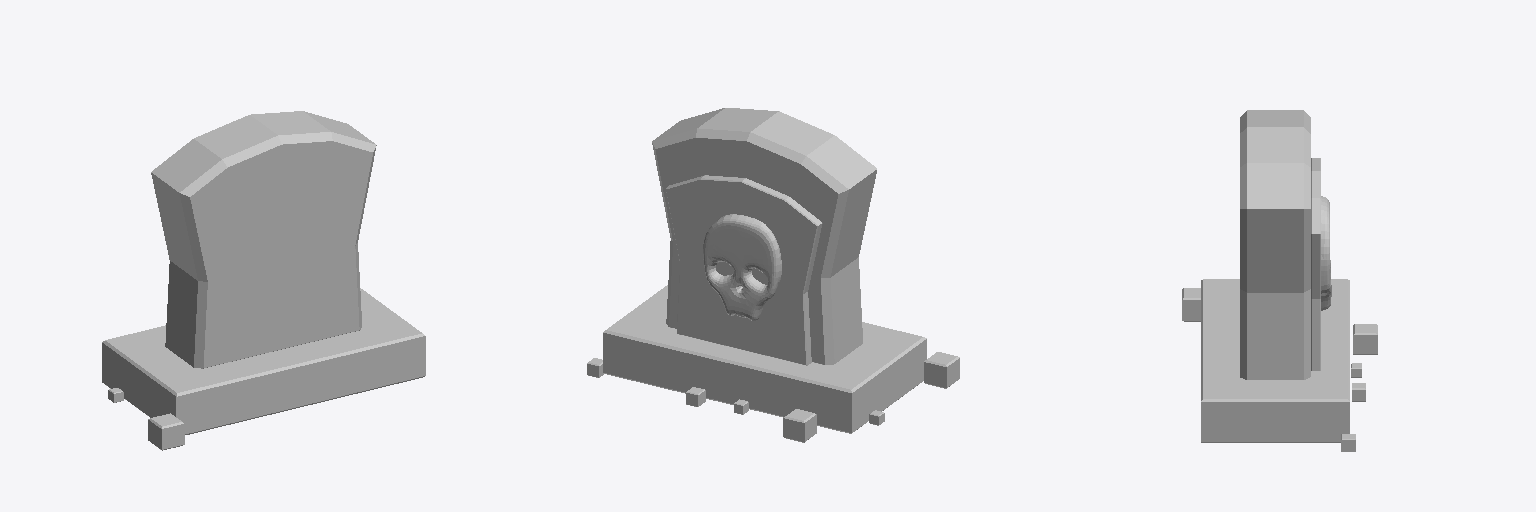
Rendered from lapidaPH1.obj.
The picture shows the model from 3 angles: view 1: azimuth 30°, elevation 25°; view 2: azimuth 150°, elevation 25°; view 3: azimuth 270°, elevation 25°; orthographic projection.
Parts seen in each view (by area): view 1: stylized_tomb; view 2: stylized_tomb; view 3: stylized_tomb.
Boxes of the visible parts, x1=… form: stylized_tomb: x1=102, y1=111, x2=425, y2=450; stylized_tomb: x1=587, y1=108, x2=959, y2=442; stylized_tomb: x1=1182, y1=110, x2=1377, y2=451.
Bounding box in the file's own units: 3.75 × 3.28 × 2.21.